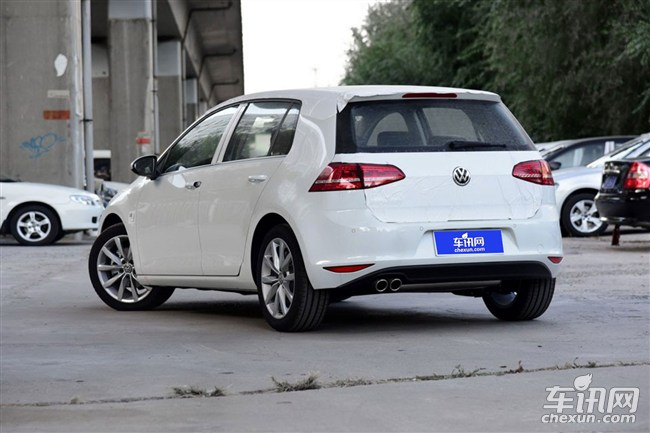front_view: (265, 67, 409, 142)
headlight: (260, 71, 334, 102)
side_glass: (64, 12, 204, 66)
